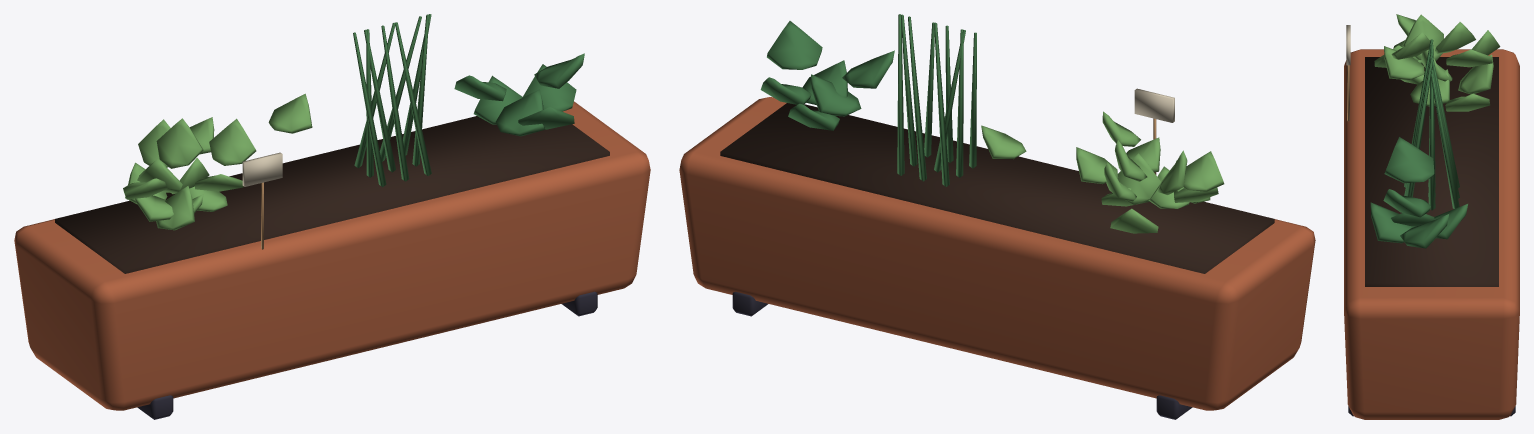
The model's file is herb_box.glb.
3 renders of one model, left to right at view 1: azimuth 30°, elevation 25°; view 2: azimuth 150°, elevation 25°; view 3: azimuth 270°, elevation 25°, orthographic. The views are drawn at different scales.
Parts seen in each view (by area): view 1: herb_box; view 2: herb_box; view 3: herb_box.
Boxes of the visible parts, left/top/right/bottom form: herb_box: left=14, top=14, right=650, bottom=419; herb_box: left=679, top=14, right=1315, bottom=419; herb_box: left=1344, top=14, right=1519, bottom=419.
Bounding box in the file's own units: 0.7371 × 0.3762 × 0.2106.
